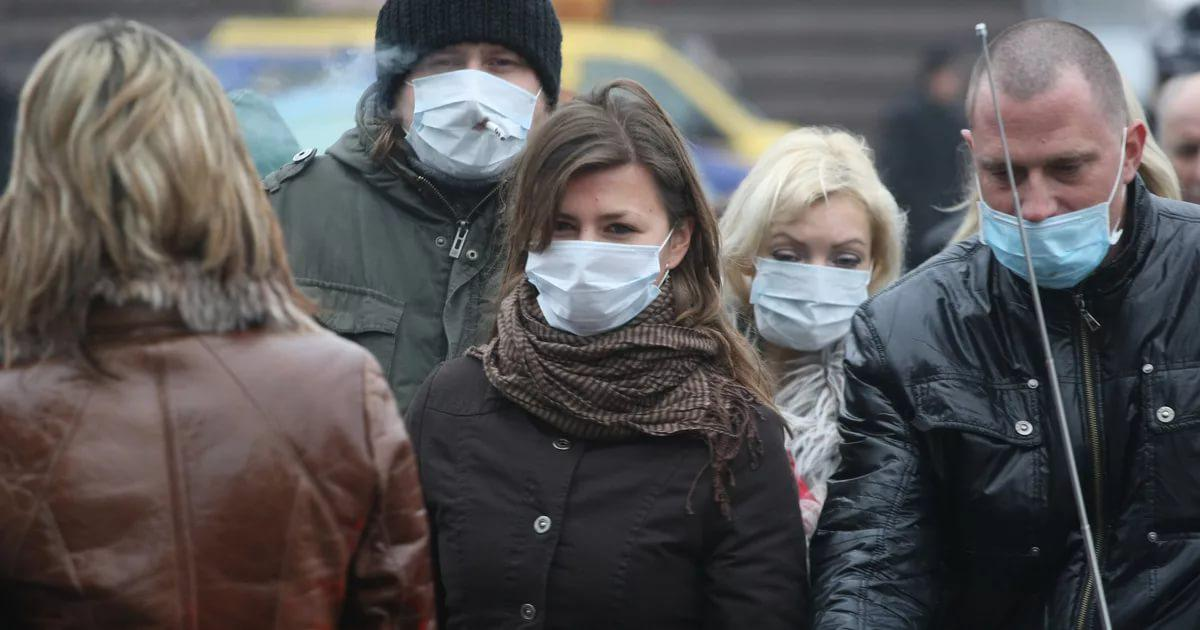mask: (530, 172, 669, 332), (751, 198, 879, 344)
poor: (970, 98, 1116, 287), (397, 17, 542, 182)
